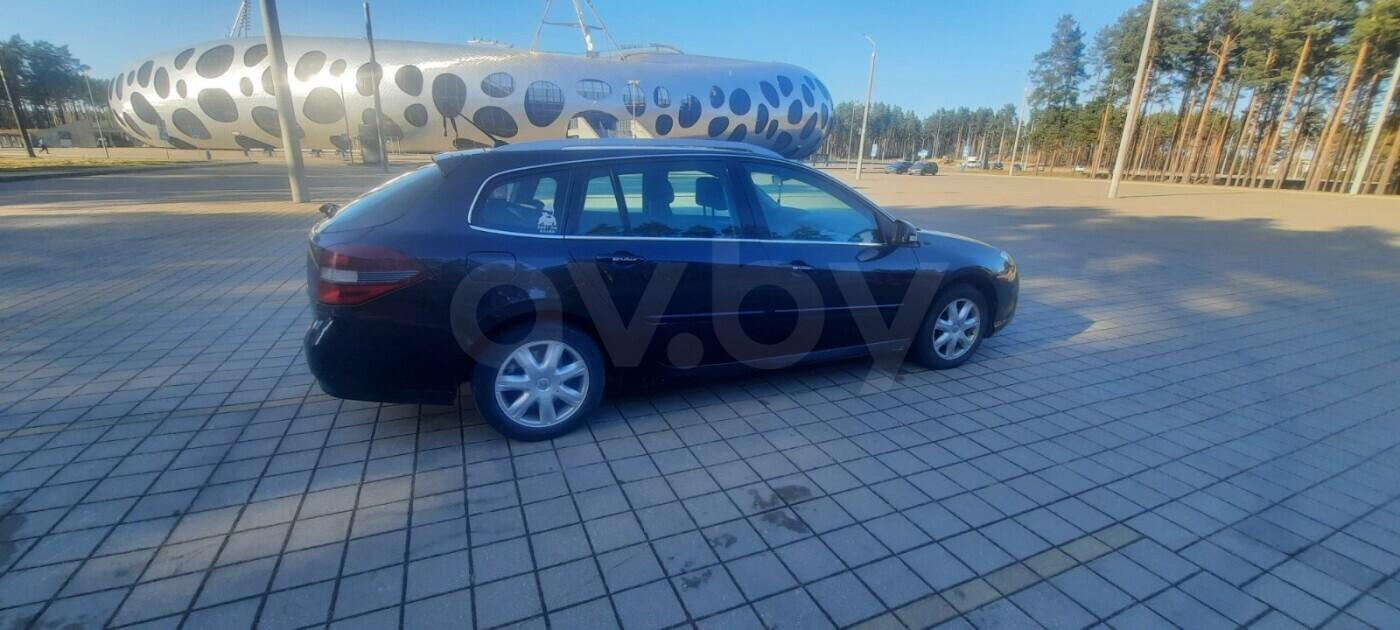Laguna_2007-2011: (305, 140, 1019, 440)
